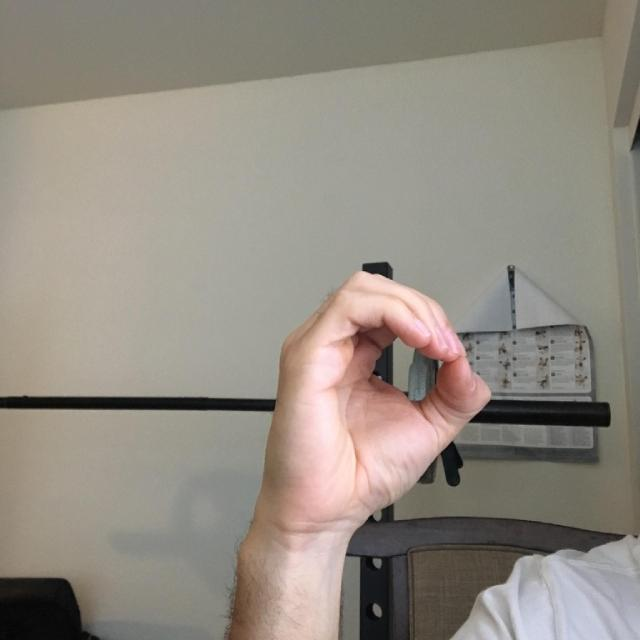O: (225, 212, 517, 587)
